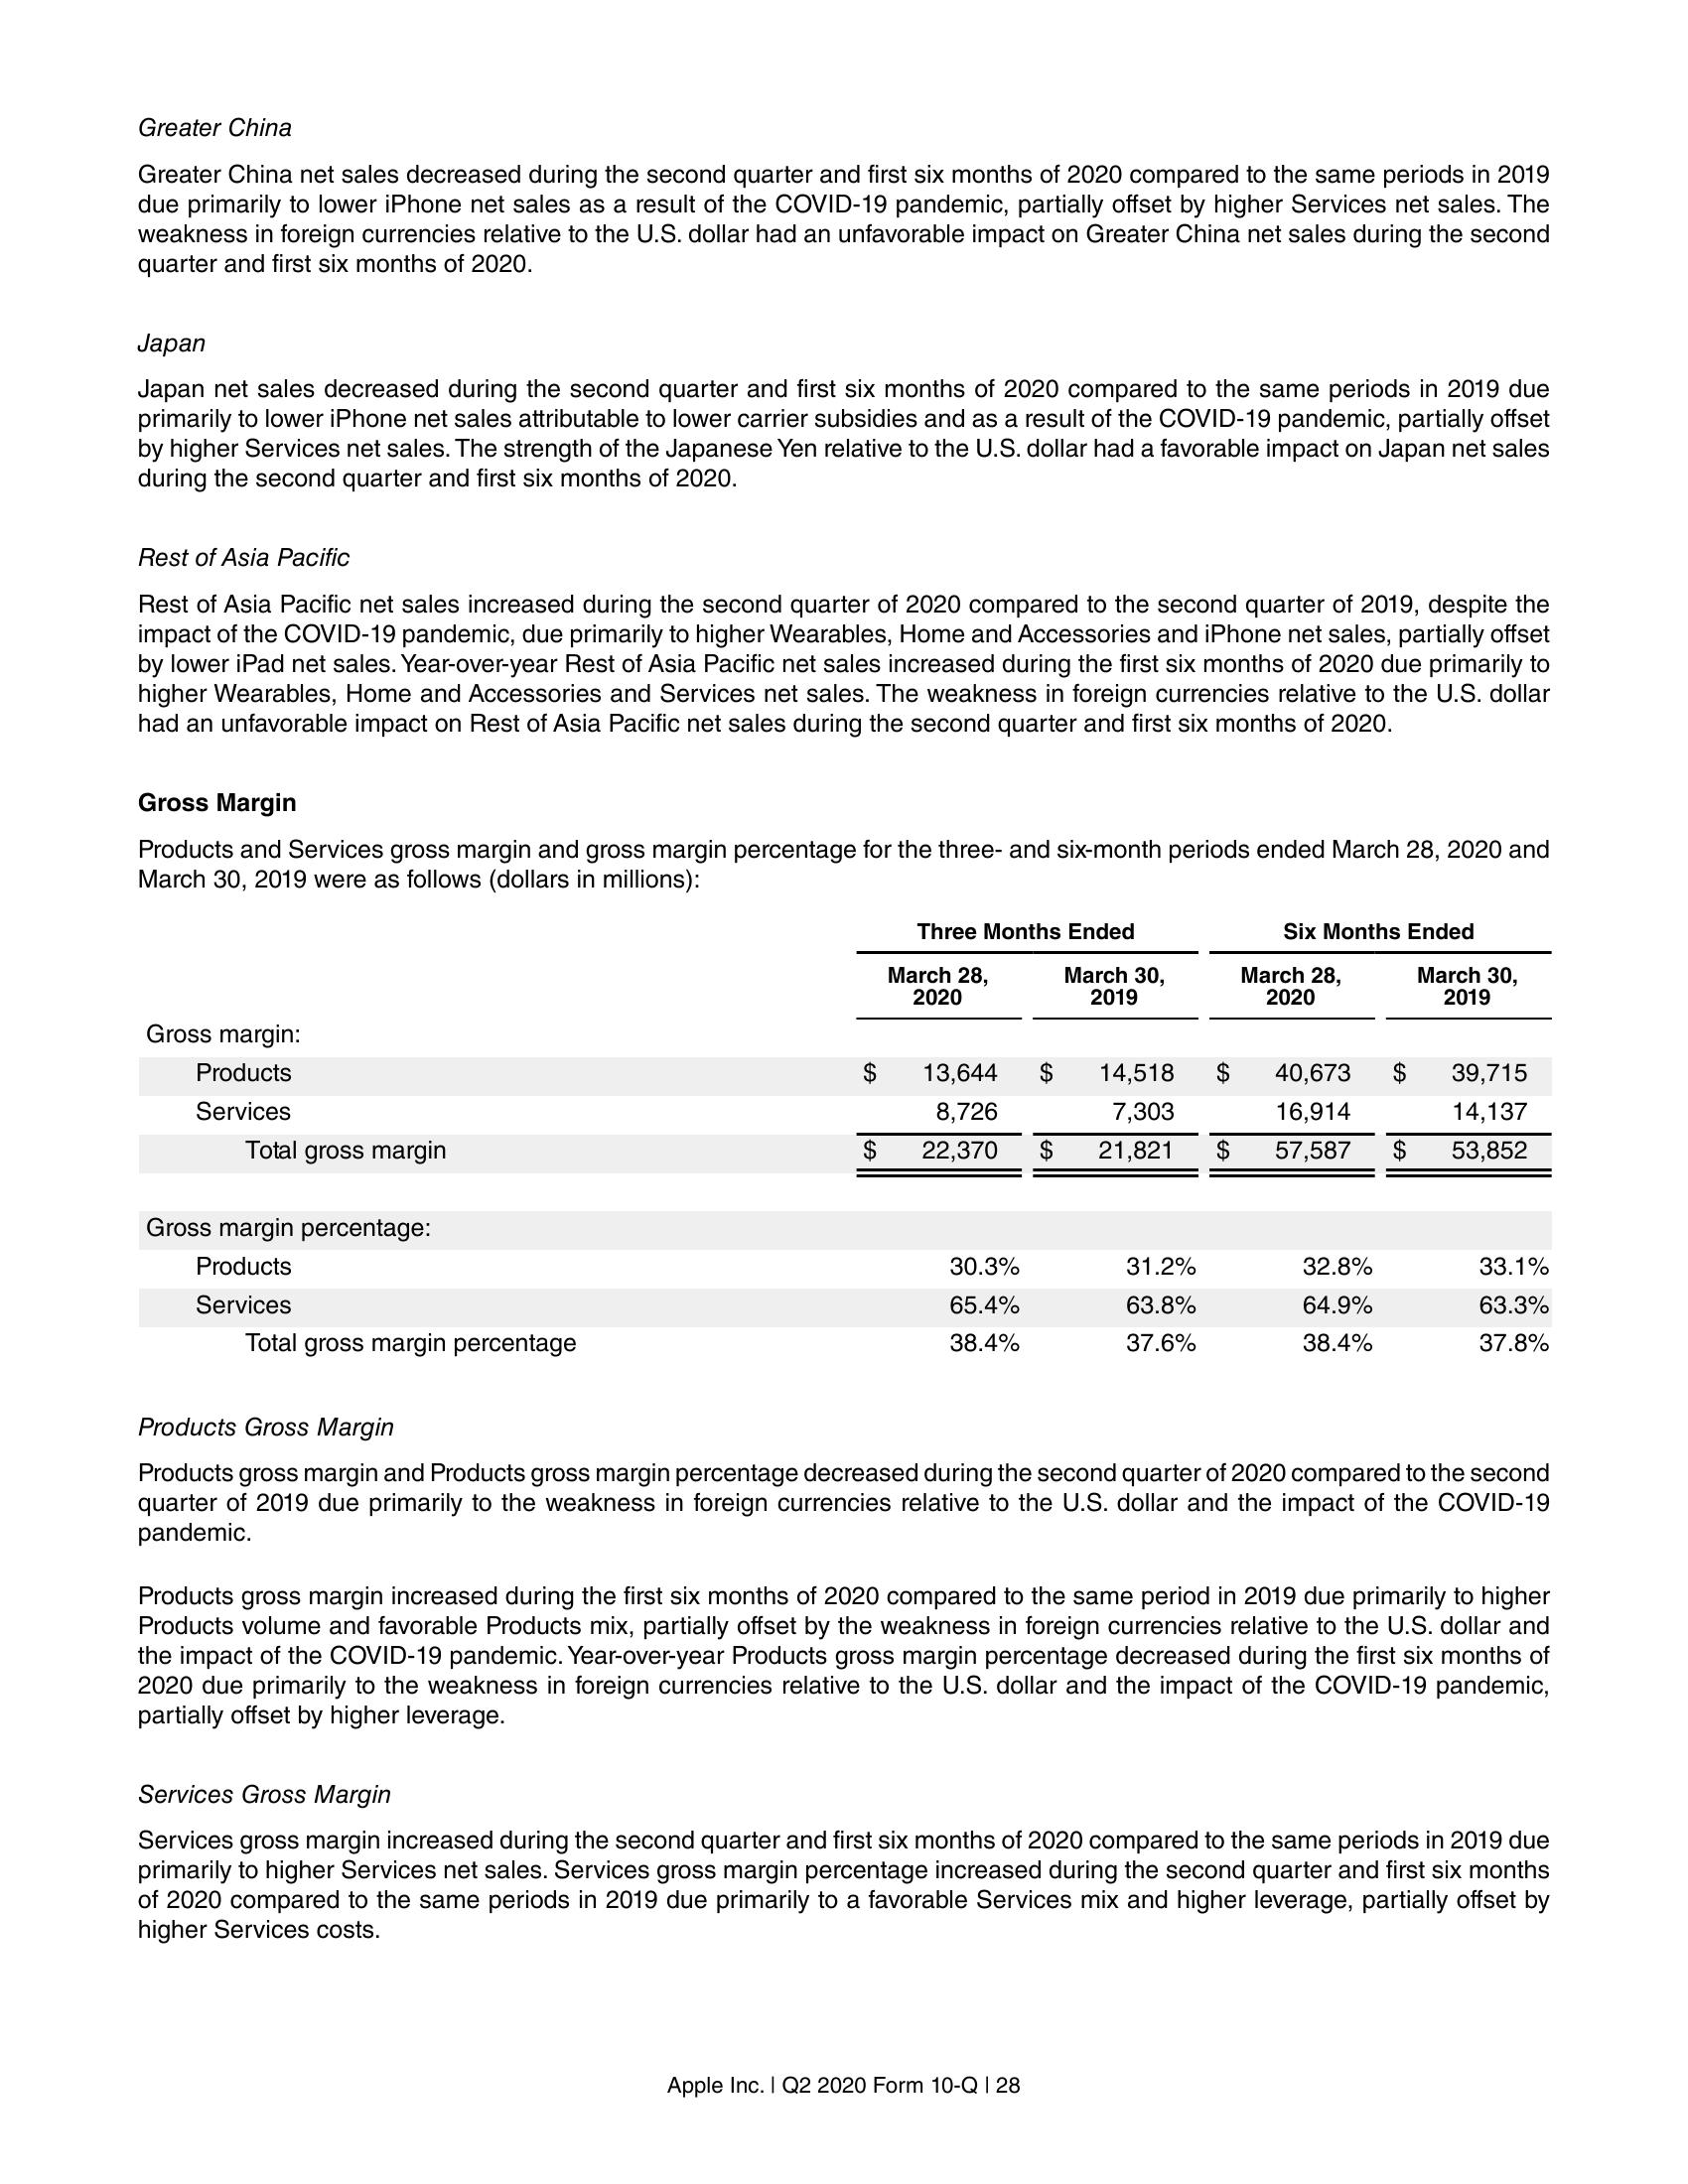table: (137, 915, 1557, 1367)
